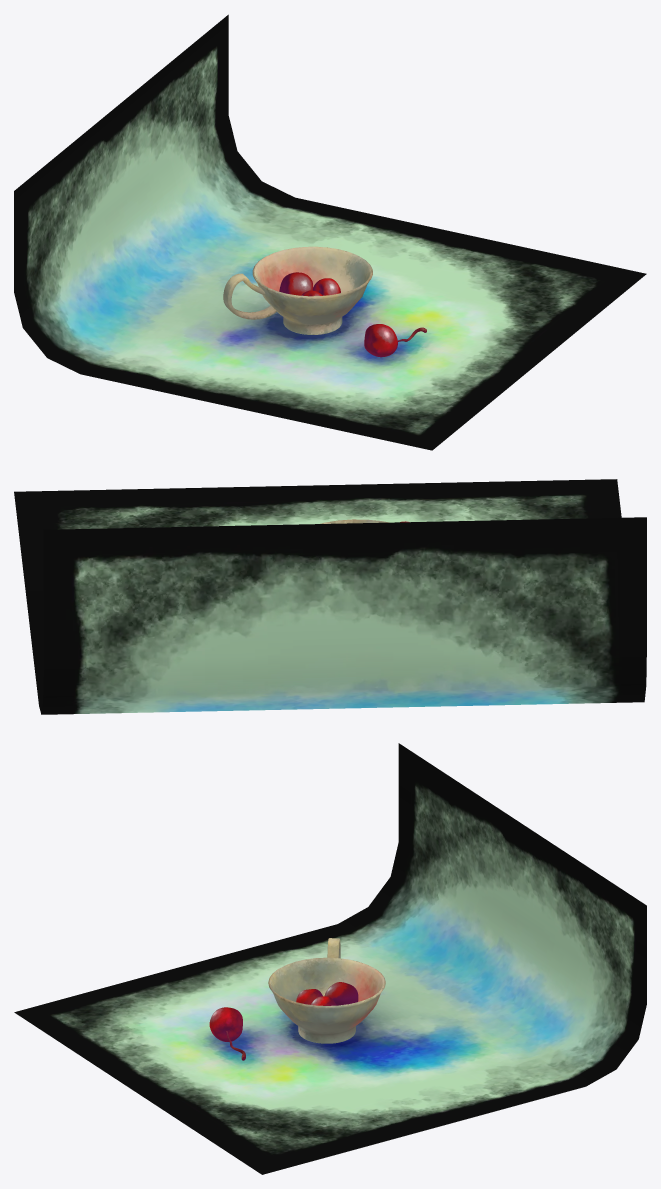
Rendered from cerezas.glb.
3 views of the same model, one above another, from view 1: azimuth 30°, elevation 25°; view 2: azimuth 150°, elevation 25°; view 3: azimuth 270°, elevation 25° (orthographic). The views are drawn at different scales.
Parts seen in each view (by area): view 1: Plane, OrejaTaza, Cerezas, Cerezas.002; view 2: Plane; view 3: Plane, OrejaTaza, Cerezas.
Part boxes in pixels (bbox=[...]): Plane: bbox=[14, 14, 646, 450]; OrejaTaza: bbox=[223, 246, 372, 334]; Cerezas: bbox=[364, 324, 397, 357]; Cerezas.002: bbox=[279, 272, 313, 295]; Plane: bbox=[14, 479, 646, 714]; Plane: bbox=[14, 743, 646, 1174]; OrejaTaza: bbox=[268, 938, 385, 1043]; Cerezas: bbox=[209, 1007, 242, 1041].
Bounding box in the file's own units: 34.8 × 9.98 × 34.8.
Materials: 7 (7 with a texture image).
